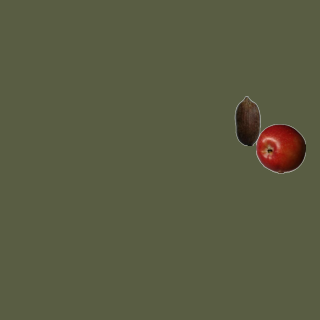Apple Braeburn: (255, 123, 305, 173)
Nut Pecan: (222, 95, 272, 145)
